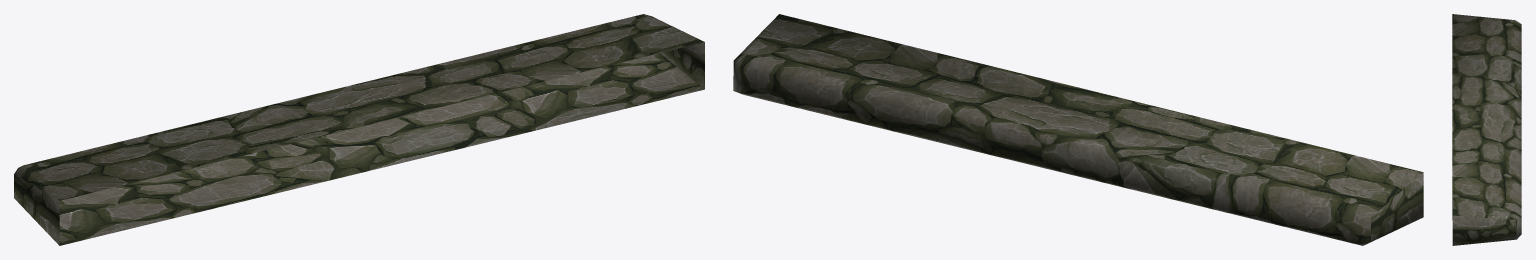
The model's file is TI_Curb_03.fbx.
3 views of the same model, side by side, from view 1: azimuth 30°, elevation 25°; view 2: azimuth 150°, elevation 25°; view 3: azimuth 270°, elevation 25° (orthographic). The views are drawn at different scales.
Visible parts, largest first — view 1: TI_Curb_03; view 2: TI_Curb_03; view 3: TI_Curb_03.
Part boxes in pixels (bbox=[...]): TI_Curb_03: bbox=[14, 14, 704, 245]; TI_Curb_03: bbox=[733, 14, 1423, 245]; TI_Curb_03: bbox=[1452, 14, 1521, 245].
Bounding box in the file's own units: 6.12 × 0.431 × 0.8888.
